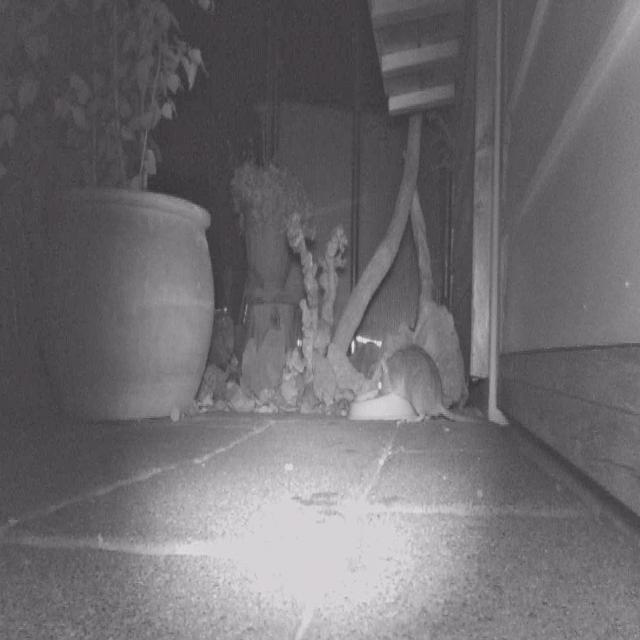rat: (377, 346, 446, 416)
